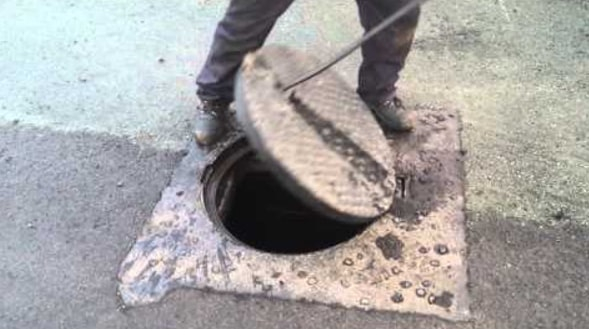open_manhole: (193, 153, 399, 260)
